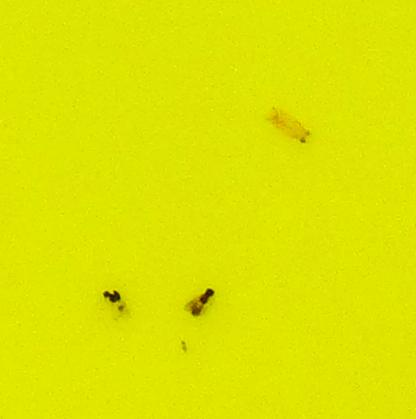Brachycera: (184, 285, 217, 319), (100, 287, 127, 315)
Hemiptera: (260, 100, 316, 152)
